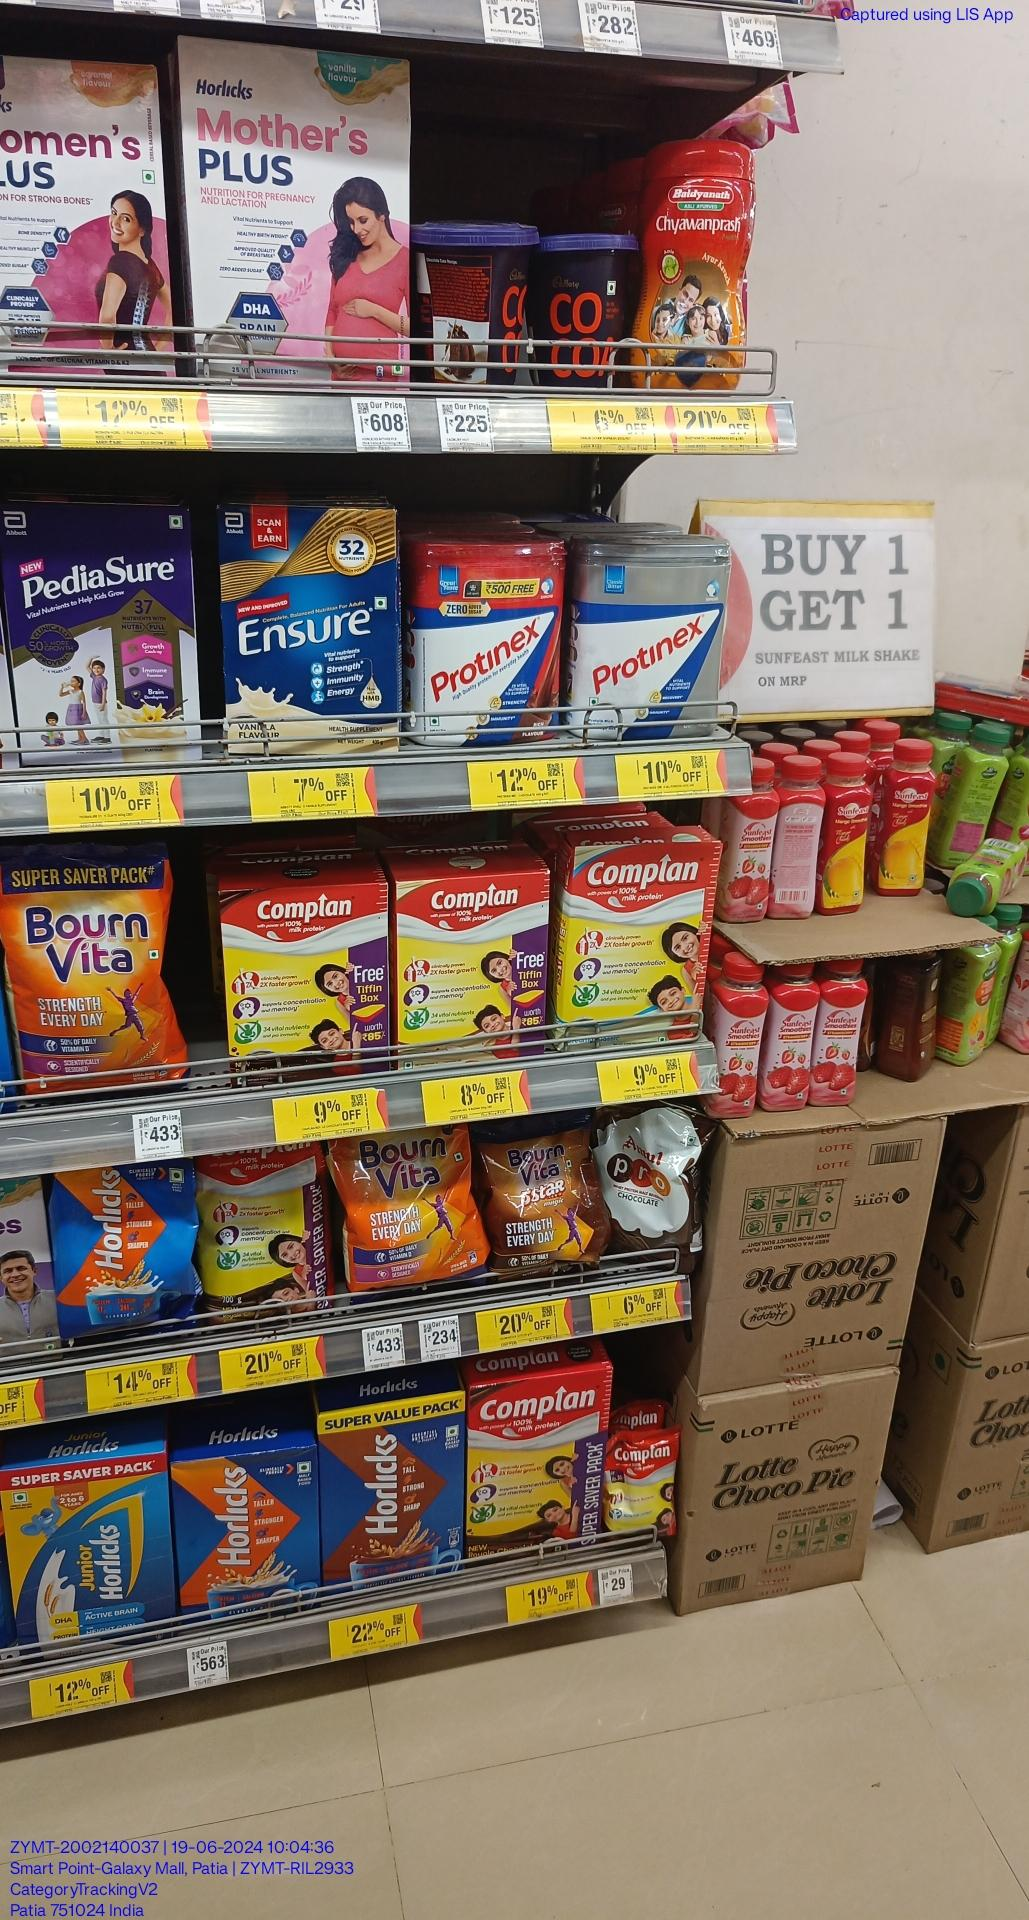BOURN_VITA_1_KG_POUCH: (5, 866, 180, 1100)
BOURN_VITA_750_G_POUCH: (347, 1133, 481, 1286)
COMPLAN_CREAMY_CLASSIC_500_G_PACK: (563, 844, 705, 1045)
HORLICK_CLASSIC_MALT_500_G_PACK: (175, 1459, 318, 1610)
